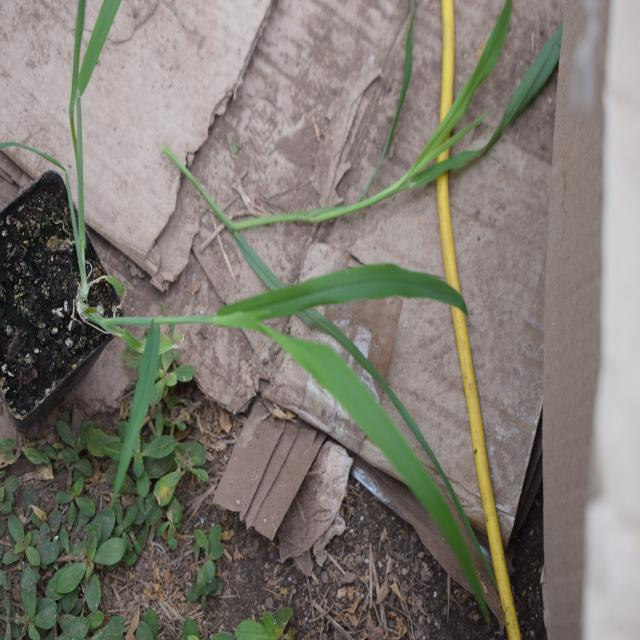crabgrass: (193, 222, 484, 539)
